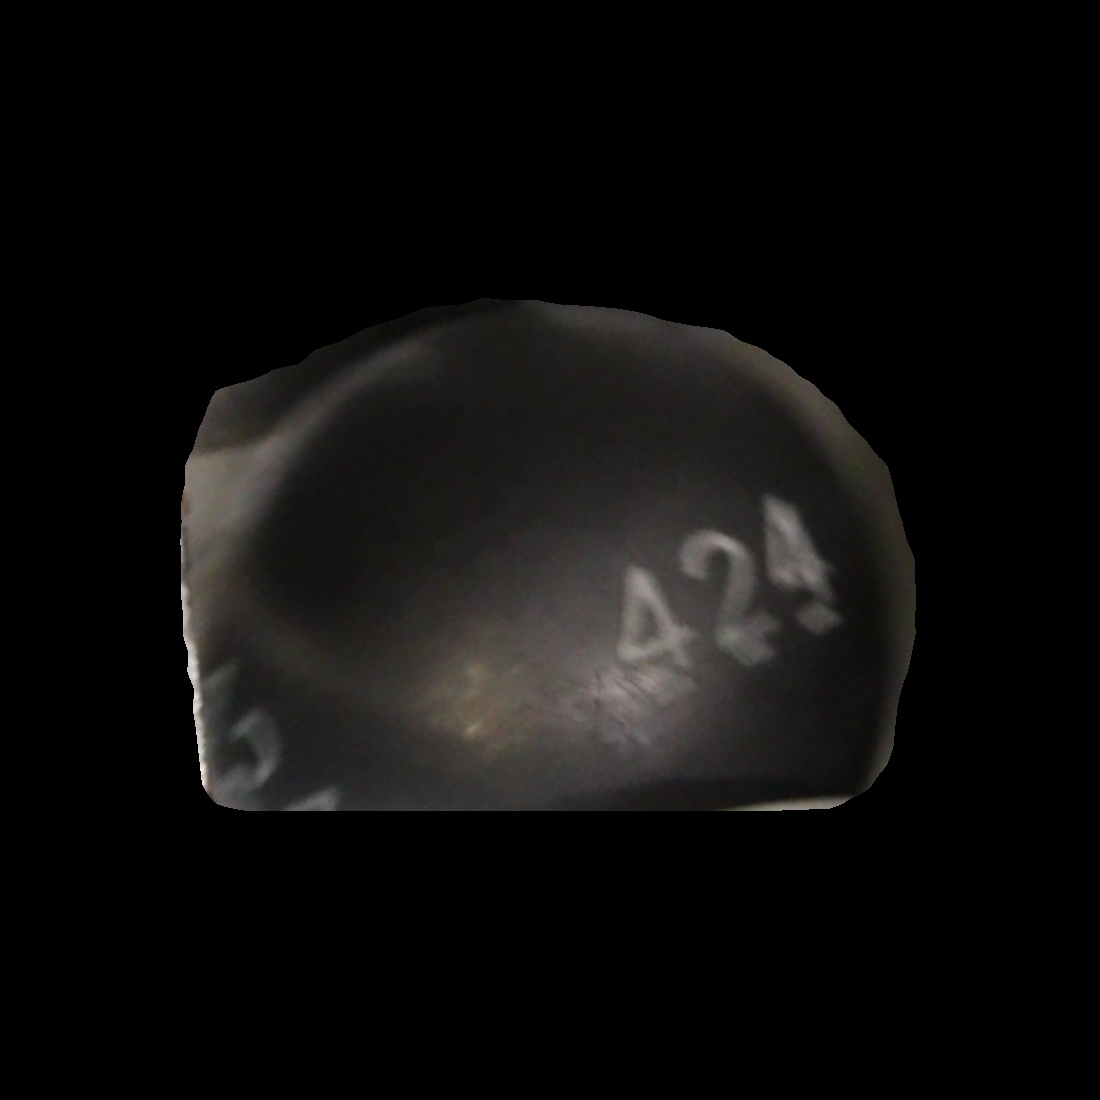digits: (616, 493, 842, 695)
